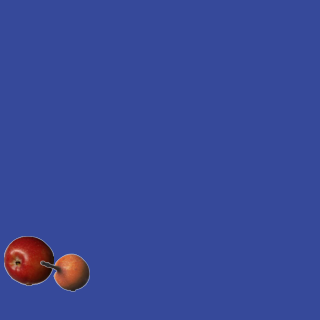Apple Braeburn: (3, 235, 53, 285)
Granadilla: (39, 247, 89, 297)
